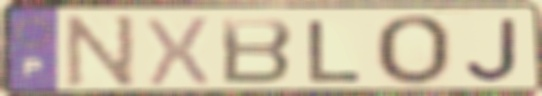B: (217, 16, 296, 87)
J: (463, 16, 521, 84)
L: (305, 18, 366, 84)
N: (62, 13, 139, 91)
O: (371, 13, 455, 88)
X: (143, 15, 213, 89)
